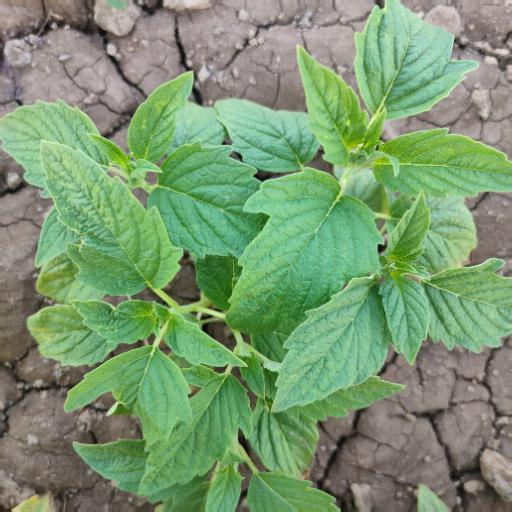crop: (38, 45, 493, 512)
